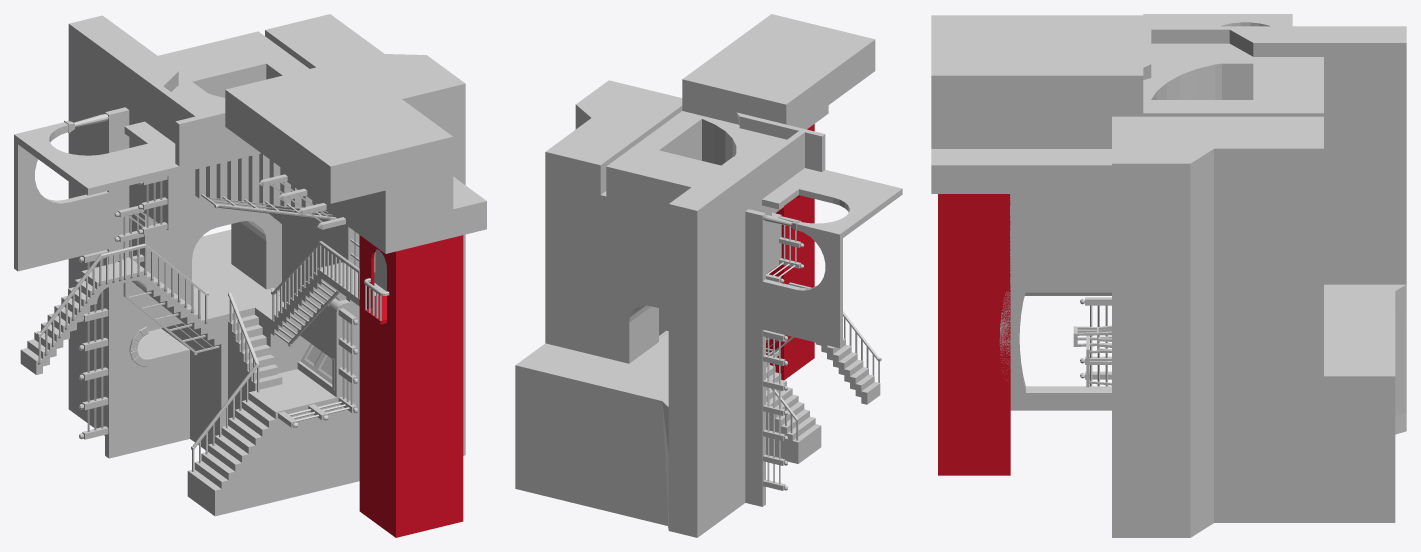
File: TRIAL.fbx
3 renders of one model, left to right at view 1: azimuth 30°, elevation 25°; view 2: azimuth 150°, elevation 25°; view 3: azimuth 270°, elevation 25°, orthographic. The views are drawn at different scales.
Visible parts, largest first — view 1: Cube.011, Circle, Cube.026, Plane.001, Cube.001, Rambarde4.002, Rambarde, Cube.007, Rambarde3, Cube.023, Cube.008, Rambarde4.001 (+17 smaller); view 2: Cube.011, Circle, Plane.001, Cube.026, Cube.001, Cube.023, Rambarde.003, Rambarde.004, Rambarde, Rambarde4.002; view 3: Cube.011, Circle, Cube.026, Cube.014, Cube.027, Plane.001, Rambarde.001.
Boxes of the visible parts, x1,y1,x2,y2 form: Cube.011: (68,14,465,516); Circle: (198,59,486,253); Cube.026: (359,235,463,537); Plane.001: (14,122,179,271); Cube.001: (187,391,282,497); Rambarde4.002: (37,243,208,364); Rambarde: (114,174,345,262); Cube.007: (195,168,328,212); Rambarde3: (271,241,359,320); Cube.023: (20,278,96,367); Cube.008: (228,315,282,390); Rambarde4.001: (191,292,259,471); Cube.011: (515,80,825,537); Circle: (682,14,875,165); Plane.001: (762,170,902,348); Cube.026: (766,124,814,380); Cube.001: (766,362,821,448); Cube.023: (821,338,880,398); Rambarde.003: (763,330,787,415); Rambarde.004: (763,412,787,490); Rambarde: (766,216,803,282); Rambarde4.002: (788,282,881,382); Cube.011: (1112,16,1406,537); Circle: (931,15,1233,193); Cube.026: (938,194,1010,475); Cube.014: (1010,194,1111,295); Cube.027: (999,291,1111,410); Plane.001: (1143,14,1292,26); Rambarde.001: (1080,297,1111,386).
Size of the model in its own units: 1111 by 1158 by 1210.
